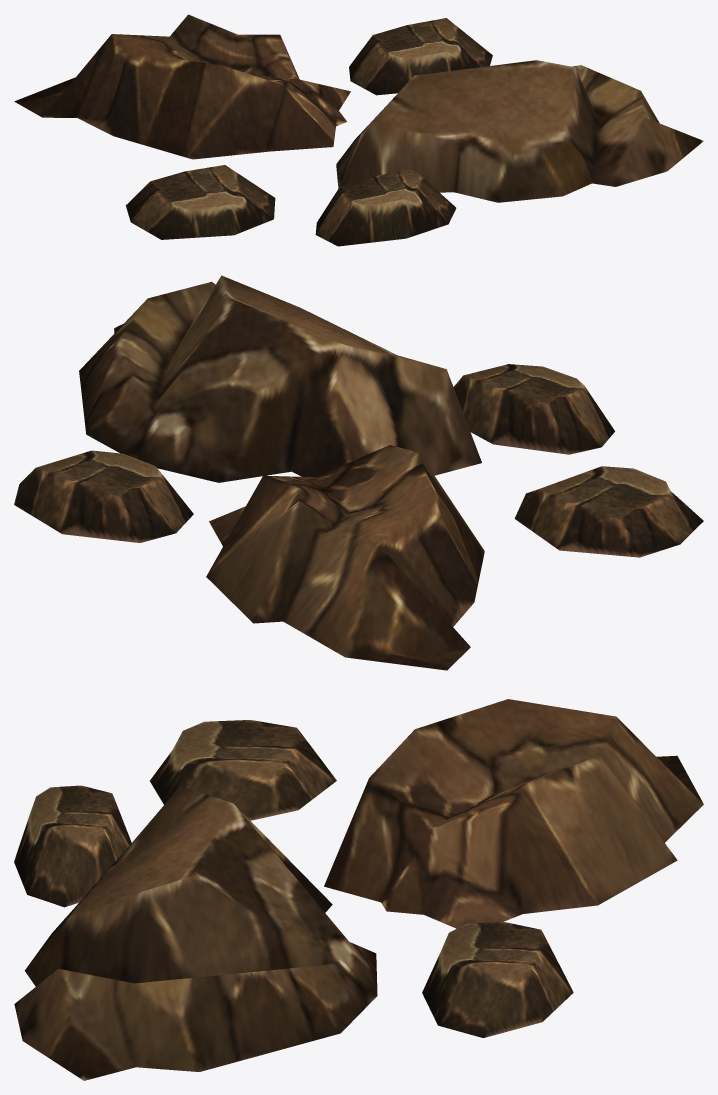
Rendered from A_shitou003.fbx.
3 renders of one model, top to bottom at view 1: azimuth 30°, elevation 25°; view 2: azimuth 150°, elevation 25°; view 3: azimuth 270°, elevation 25°, orthographic. The views are drawn at different scales.
Parts seen in each view (by area): view 1: A_shitou003; view 2: A_shitou003; view 3: A_shitou003.
Part boxes in pixels (x1,y1,x2,y2): A_shitou003: (14, 14, 703, 246); A_shitou003: (14, 275, 703, 670); A_shitou003: (14, 699, 703, 1080).
Bounding box in the file's own units: 256 × 42.02 × 214.
